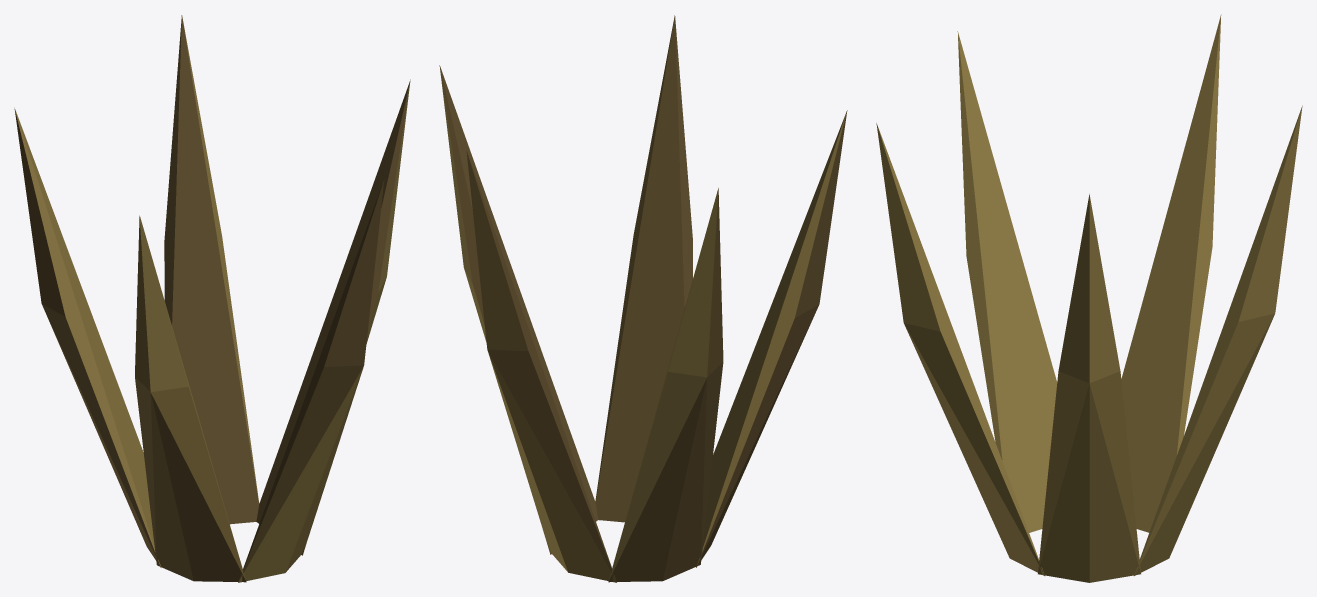
File: TW_VEG_GRASS_TUFT_A_LOD0.glb
3 views of the same model, side by side, from view 1: azimuth 30°, elevation 25°; view 2: azimuth 150°, elevation 25°; view 3: azimuth 270°, elevation 25° (orthographic). The views are drawn at different scales.
Visible parts, largest first — view 1: TW_VEG_GRASS_TUFT_A_LOD0; view 2: TW_VEG_GRASS_TUFT_A_LOD0; view 3: TW_VEG_GRASS_TUFT_A_LOD0.
Part boxes in pixels (x1,y1,x2,y2): TW_VEG_GRASS_TUFT_A_LOD0: (14,15,410,582); TW_VEG_GRASS_TUFT_A_LOD0: (439,15,847,582); TW_VEG_GRASS_TUFT_A_LOD0: (876,14,1302,582).
Bounding box in the file's own units: 0.3528 × 0.4532 × 0.3709.
1 material, 1 textured.
